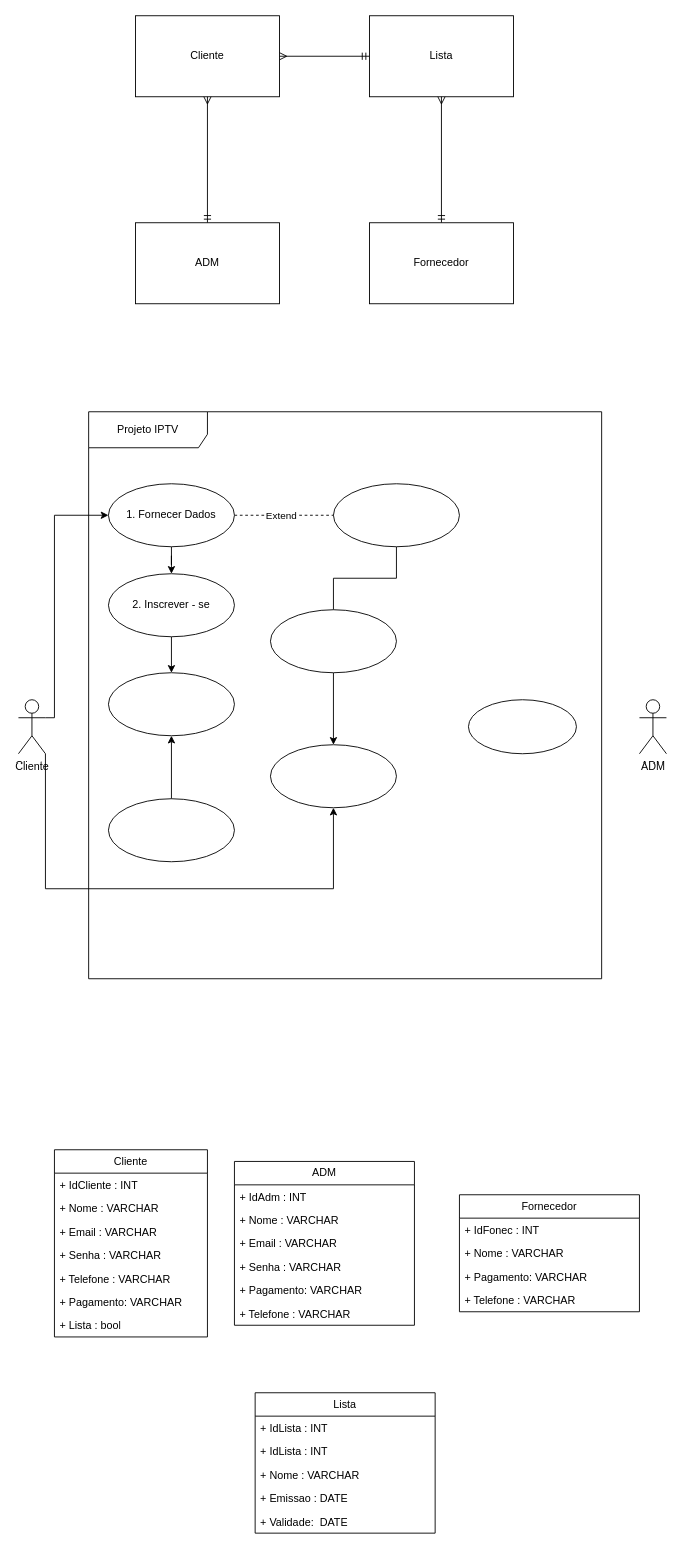
Some shapes in this 682 by 1552 pixel diagram are drawn without their labels. The box of each missing label's shape, as (x1, y1, x2, y2) in pixels:
3. Logar: (333, 483, 459, 547)
4. Comprar a lista: (108, 672, 234, 736)
5. Vende a lista: (108, 798, 234, 862)
6. Aproveitar o conteúdo: (270, 609, 396, 673)
7. Pagar o aluguel da lista: (270, 744, 396, 808)
8. Gere o cliente: (468, 699, 576, 754)
